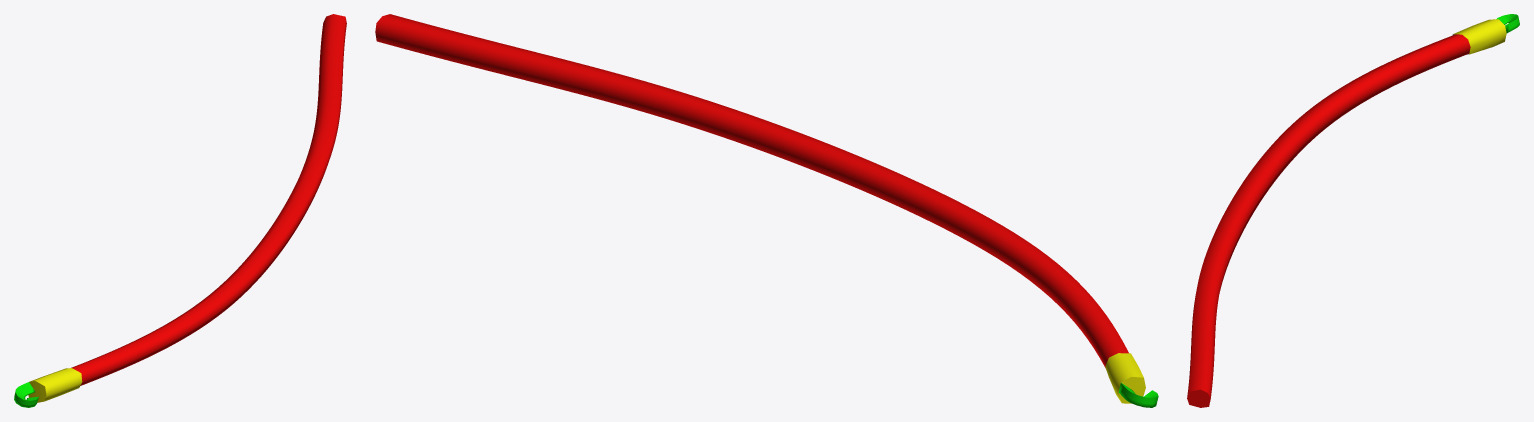
Rendered from Rope2.fbx.
The picture shows the model from 3 angles, left to right: view 1: azimuth 90°, elevation 25°; view 2: azimuth 150°, elevation 25°; view 3: azimuth 270°, elevation 25°; orthographic projection. The views are drawn at different scales.
Parts seen in each view (by area): view 1: extrudedSurface5; view 2: extrudedSurface5; view 3: extrudedSurface5.
Boxes of the visible parts, x1,y1,x2,y2 form: extrudedSurface5: (14, 14, 346, 407); extrudedSurface5: (375, 14, 1158, 407); extrudedSurface5: (1187, 14, 1519, 407).
Bounding box in the file's own units: 17.79 × 0.4763 × 6.56.
